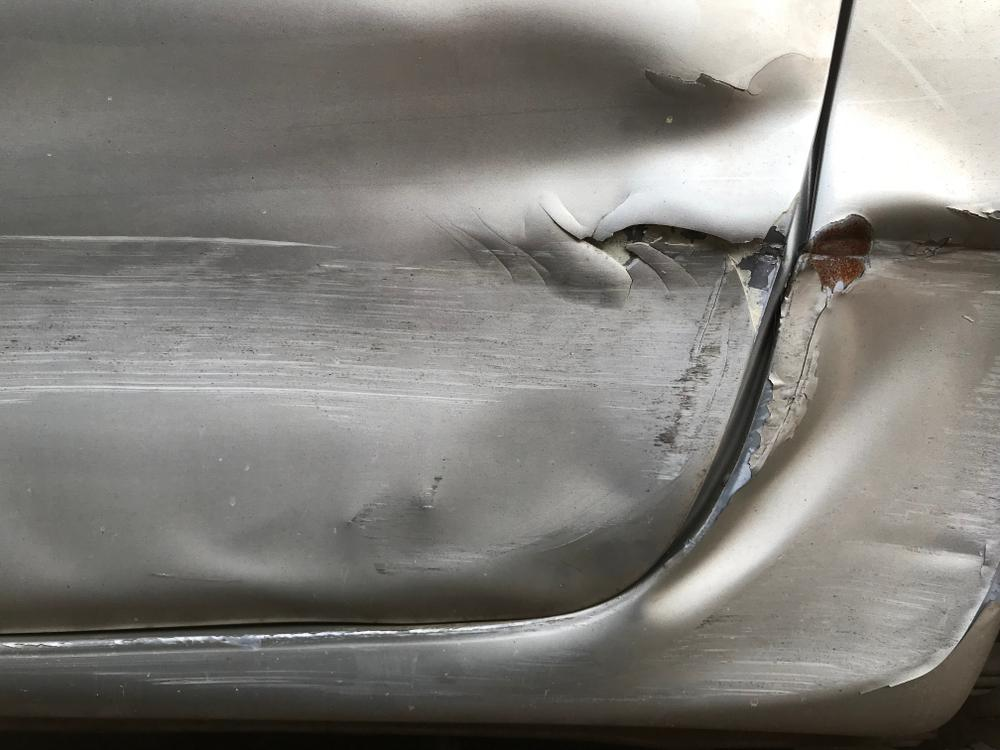dent: (0, 16, 825, 586), (666, 201, 1000, 689)
scratch: (98, 651, 586, 698), (560, 631, 784, 705)
